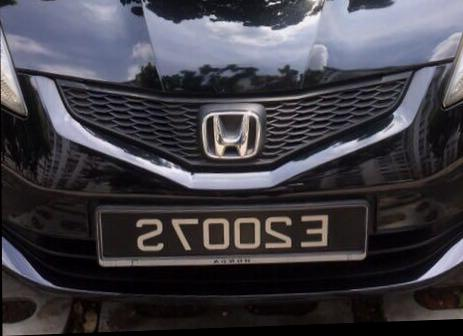License_Plate: (92, 196, 374, 275)
